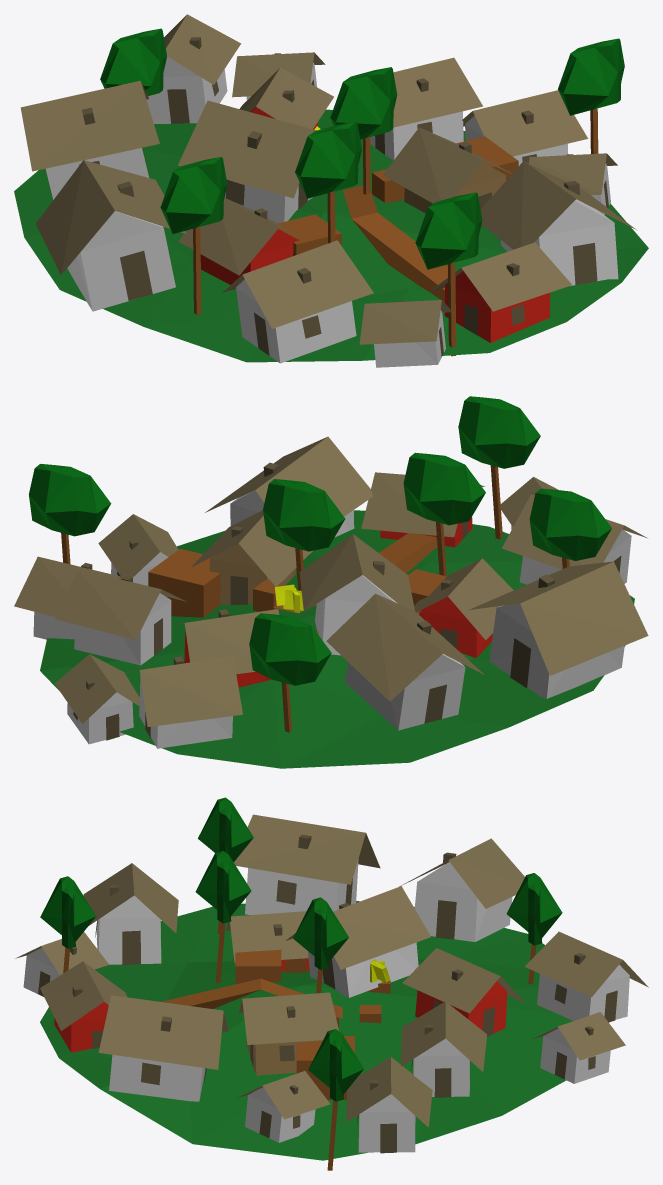
Rendered from city_european_0.dae.
The picture shows the model from 3 angles, top to bottom: view 1: azimuth 30°, elevation 25°; view 2: azimuth 150°, elevation 25°; view 3: azimuth 270°, elevation 25°; orthographic projection. The views are drawn at different scales.
Parts seen in each view (by area): view 1: Grass, Plane_005, Plane, Plane_003, Plane_002, Plane_011, Plane_010, Plane_004, Plane_001, Plane_009, Plane_012, Plane_008 (+14 smaller); view 2: Grass, Plane_005, Plane_002, Plane_001, Plane_004, Plane_011, Plane_003, Plane_008, Plane_009, Crate_011, Plane_013, Crate_016 (+14 smaller); view 3: Grass, Plane_003, Plane_005, Plane_002, Plane_011, Plane_004, Plane, Plane_012, Plane_001, Plane_009, Plane_007, Plane_010 (+13 smaller).
Boxes of the visible parts, x1,y1,x2,y2 form: Grass: [14, 109, 648, 362]; Plane_005: [36, 160, 186, 311]; Plane: [222, 240, 373, 363]; Plane_003: [480, 161, 636, 285]; Plane_002: [20, 80, 159, 199]; Plane_011: [178, 100, 316, 223]; Plane_010: [428, 242, 571, 342]; Plane_004: [146, 14, 241, 124]; Plane_001: [370, 57, 483, 160]; Plane_009: [383, 127, 512, 226]; Plane_012: [462, 90, 588, 165]; Plane_008: [178, 198, 312, 284]; Grass: [40, 510, 634, 768]; Plane_005: [468, 561, 648, 698]; Plane_002: [326, 593, 484, 730]; Plane_001: [55, 569, 186, 665]; Plane_004: [126, 656, 242, 748]; Plane_011: [299, 534, 414, 655]; Plane_003: [205, 436, 372, 537]; Plane_008: [414, 558, 513, 657]; Plane_009: [191, 510, 312, 604]; Crate_011: [458, 396, 540, 539]; Plane_013: [54, 654, 139, 744]; Crate_016: [403, 452, 485, 576]; Grass: [40, 901, 572, 1160]; Plane_003: [98, 995, 228, 1101]; Plane_005: [234, 814, 380, 914]; Plane_002: [399, 838, 524, 941]; Plane_011: [285, 886, 430, 997]; Plane_004: [524, 931, 648, 1022]; Plane: [83, 863, 178, 965]; Plane_012: [346, 1057, 432, 1153]; Plane_001: [401, 1001, 486, 1097]; Plane_009: [238, 992, 338, 1075]; Plane_007: [402, 948, 525, 1036]; Plane_010: [40, 961, 126, 1052].
Size of the model in its own units: 3.91 by 4.06 by 1.22.
